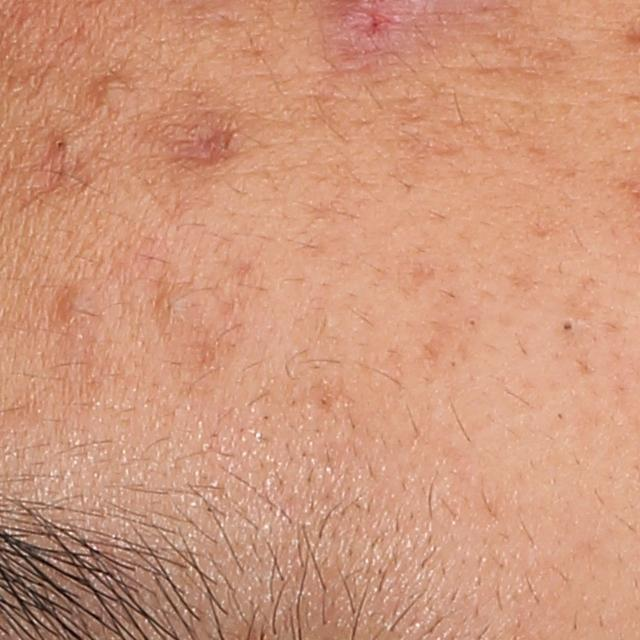atrophic_scar: (146, 110, 247, 169)
comedo: (94, 75, 134, 115), (58, 284, 92, 326), (159, 287, 186, 318), (48, 132, 71, 154), (559, 317, 578, 336)
